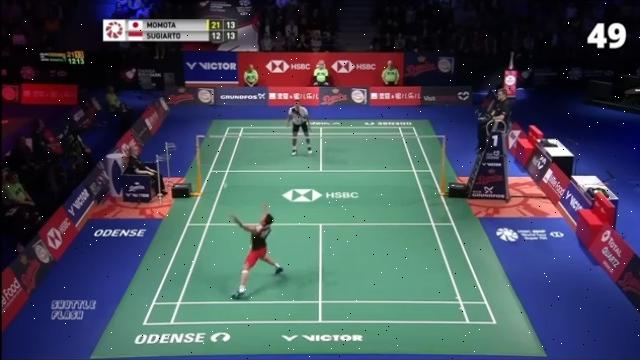Shuttlecock: (218, 184, 230, 190)
